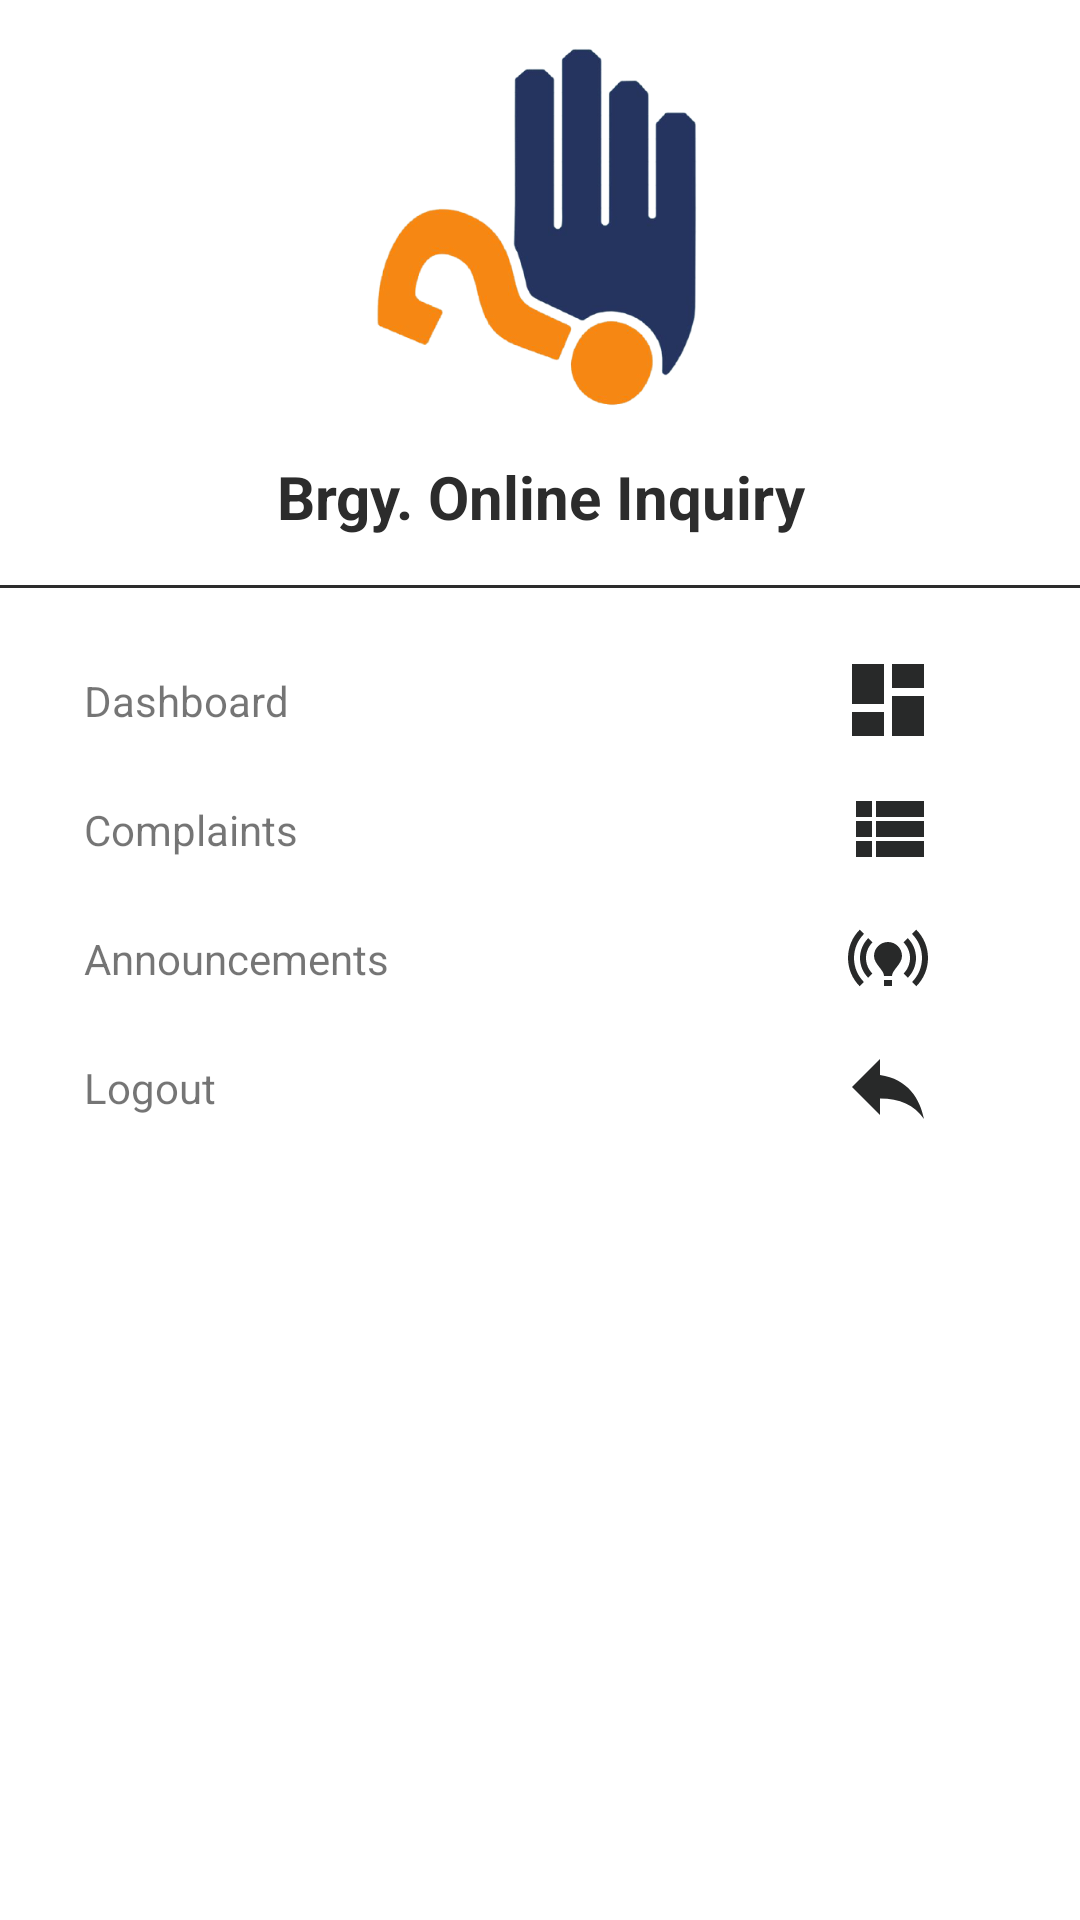

Icons on this 1080 × 1920 Android screen, each with its box as (x1, y1, x2, y2):
complist: (856, 801, 924, 857)
online prediction: (848, 929, 928, 986)
reply: (852, 1059, 924, 1119)
